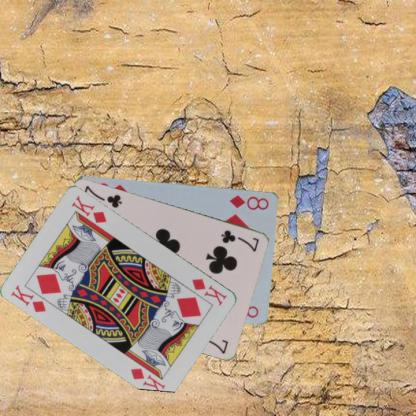7c: (218, 227, 260, 253)
8d: (227, 192, 270, 211)
Kd: (8, 282, 48, 314), (190, 276, 228, 308)
